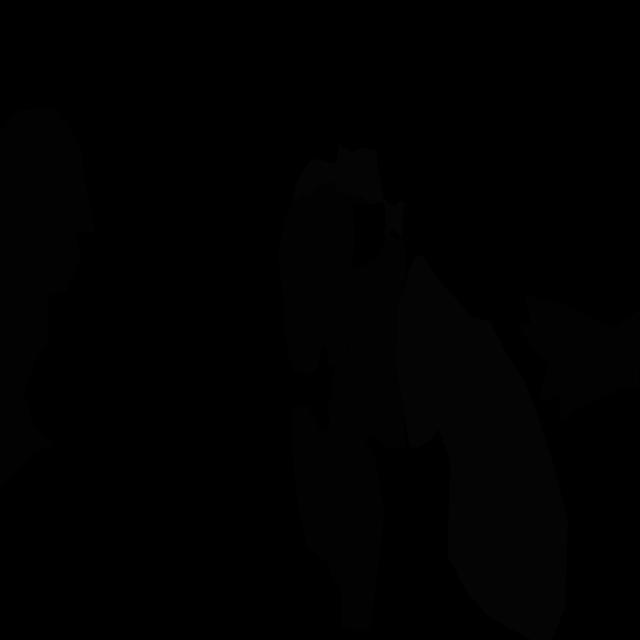cardboard: (292, 232, 406, 631), (0, 108, 96, 491), (278, 180, 369, 375), (516, 295, 640, 421)
soft_plastic: (396, 256, 568, 640), (292, 143, 405, 240)
